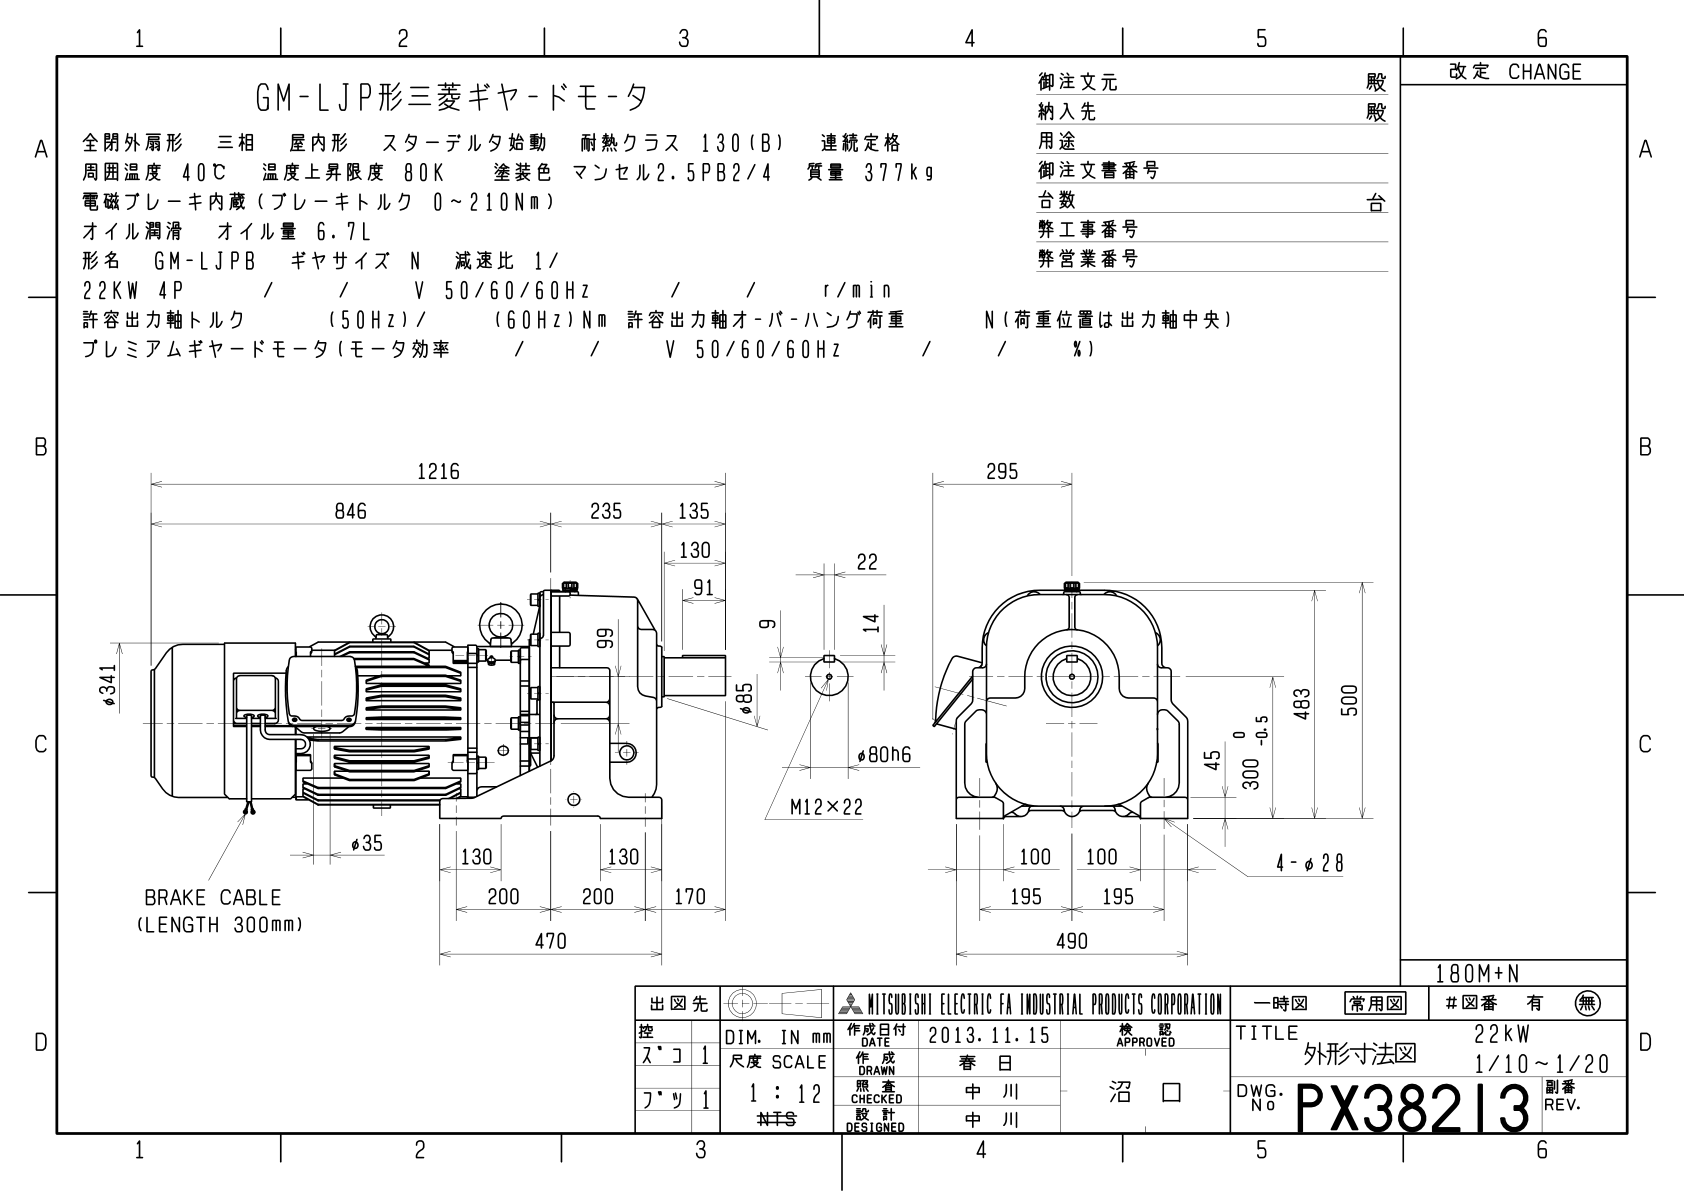GM_LJP_屋内_三相_脚: (82, 414, 1383, 974)
